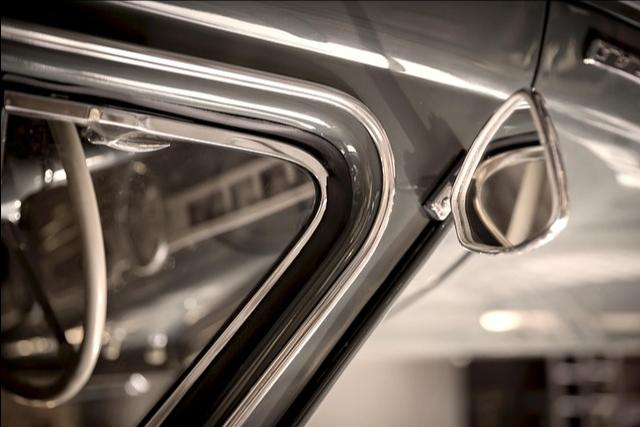Non_Gorille: (12, 40, 620, 386)
